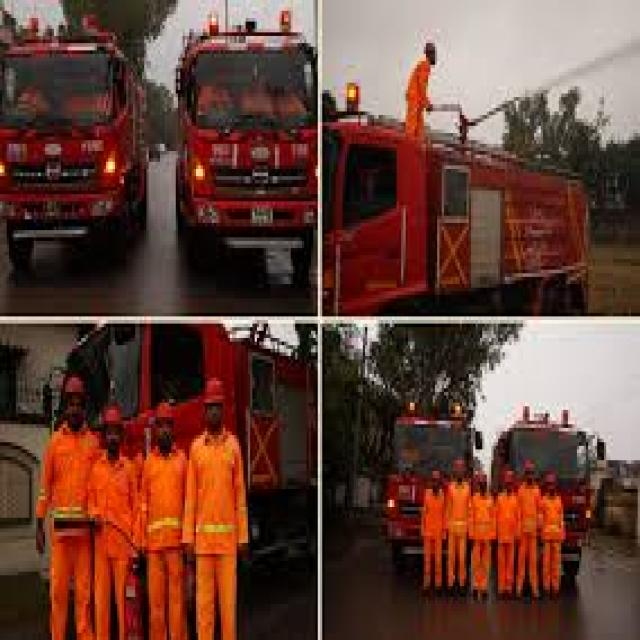Fire_brigade: (322, 111, 586, 316), (171, 0, 318, 284), (0, 14, 158, 270)
